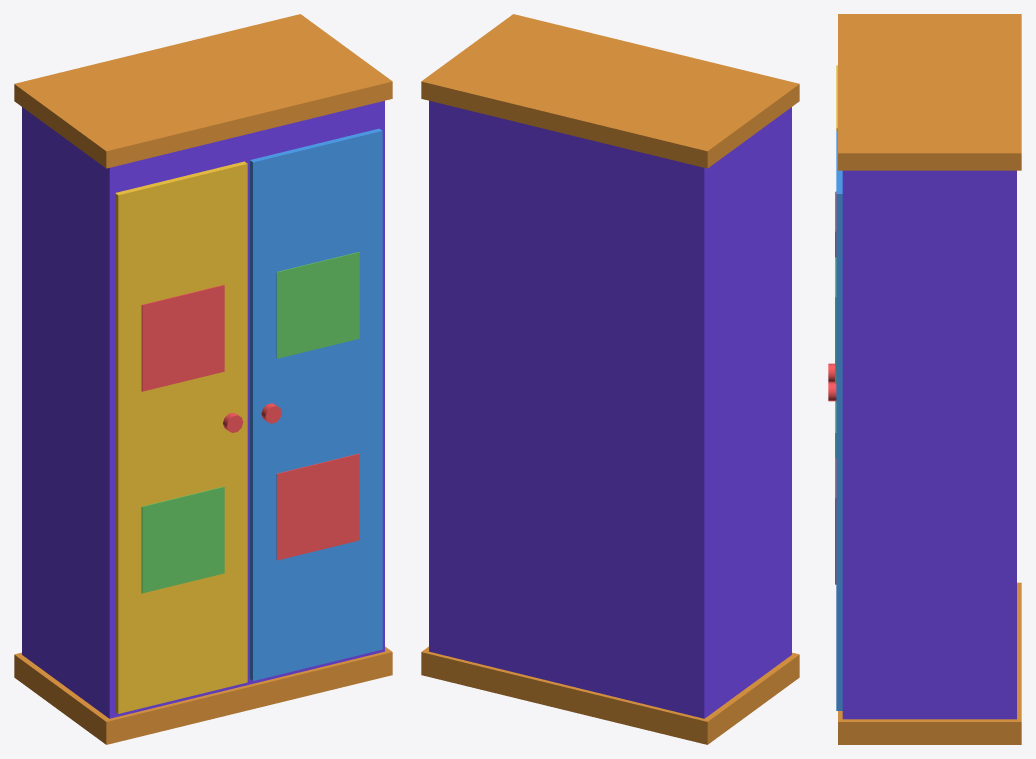
File: wardrobe_fun_0.glb
The picture shows the model from 3 angles, left to right: view 1: azimuth 30°, elevation 25°; view 2: azimuth 150°, elevation 25°; view 3: azimuth 270°, elevation 25°; orthographic projection.
Size of the model in its own units: 1.04 by 2.06 by 0.61.
